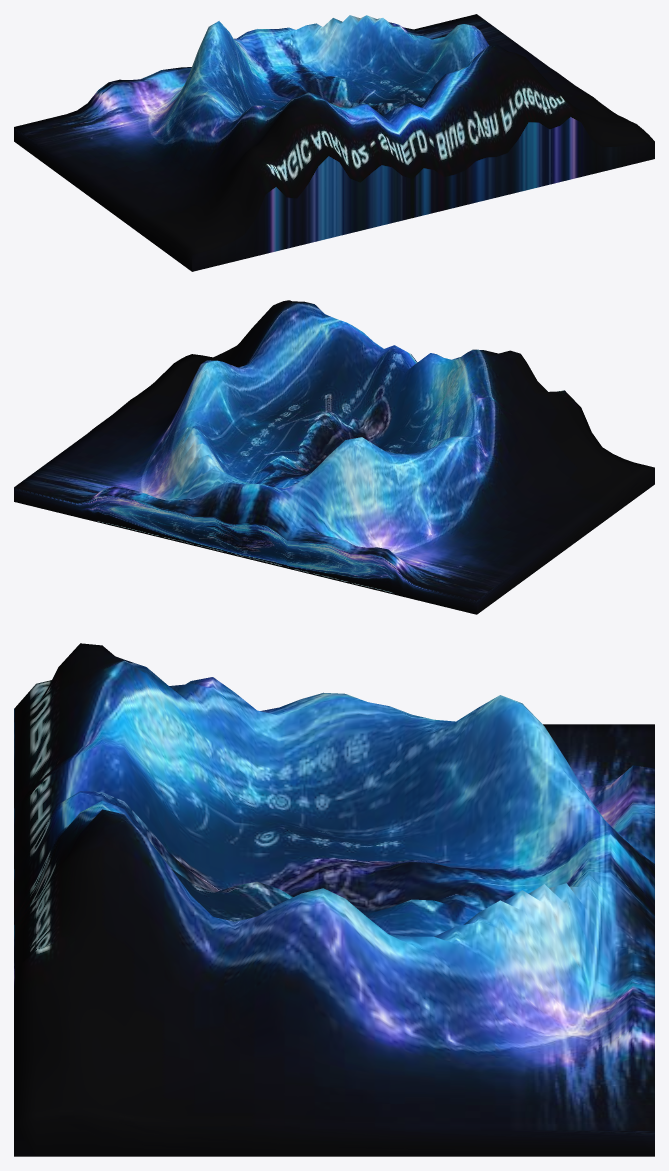
The model's file is MAGIC_Aura_02_Shield.glb.
3 renders of one model, top to bottom at view 1: azimuth 30°, elevation 25°; view 2: azimuth 150°, elevation 25°; view 3: azimuth 270°, elevation 25°, orthographic. The views are drawn at different scales.
Visible parts, largest first — view 1: MAGIC_Aura_02_Shield; view 2: MAGIC_Aura_02_Shield; view 3: MAGIC_Aura_02_Shield.
Part boxes in pixels (left/top/right/bottom): MAGIC_Aura_02_Shield: left=14, top=14, right=654, bottom=271; MAGIC_Aura_02_Shield: left=14, top=300, right=654, bottom=614; MAGIC_Aura_02_Shield: left=14, top=643, right=654, bottom=1156.
Bounding box in the file's own units: 2 × 0.51 × 1.33.
Materials: 1 (1 with a texture image).
